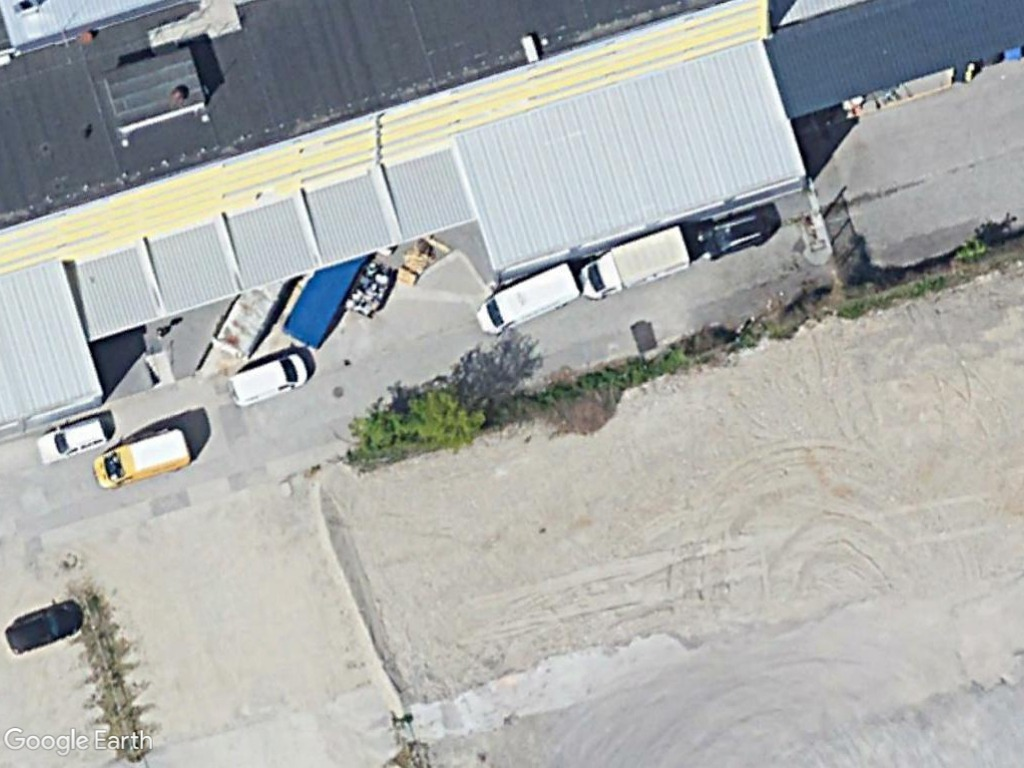car: (688, 204, 776, 262), (2, 597, 85, 656), (31, 413, 111, 466)
truck: (577, 218, 695, 296)
van: (472, 260, 582, 336), (89, 426, 192, 492), (222, 350, 309, 408)
